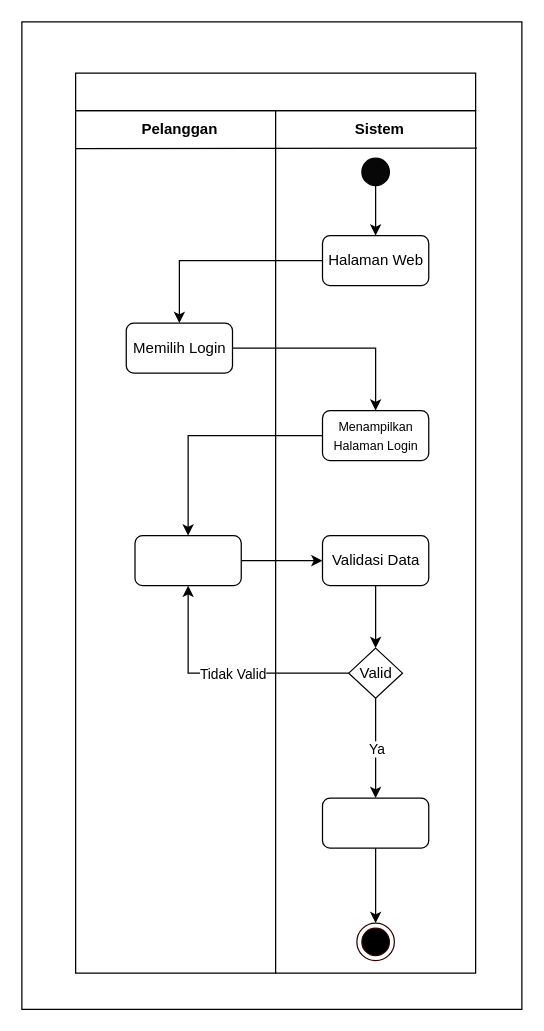
This 544x1031 diagram has some shape labels left out. The shapes that lost their labels are listed below. From the top down, each one's centre as x and y in pixels, then its label:
At point 275,91: "Login Penyewa".
At point 187,560: "Mengisi Data".
At point 375,822: "Dashboard Penyewa".
